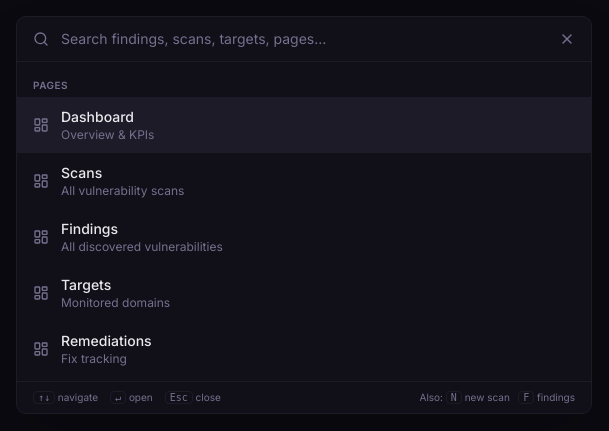
Test: CommandPalette › shows 'No results' message when query yields no matches
Type "xyzzyzzz_no_match" into the field with placeholder "Search findings, scans, targets, pages…" at (304, 38), box x1=61 y1=28 x2=547 y2=48
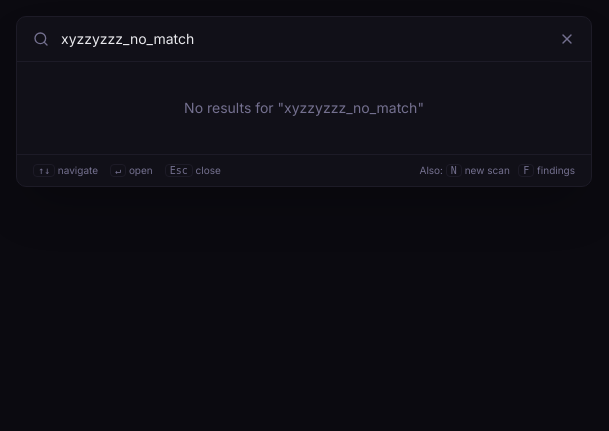
Check: the text "No results for \"xyzzyzzz_no_match\"" is shown, box x1=184 y1=98 x2=424 y2=116
